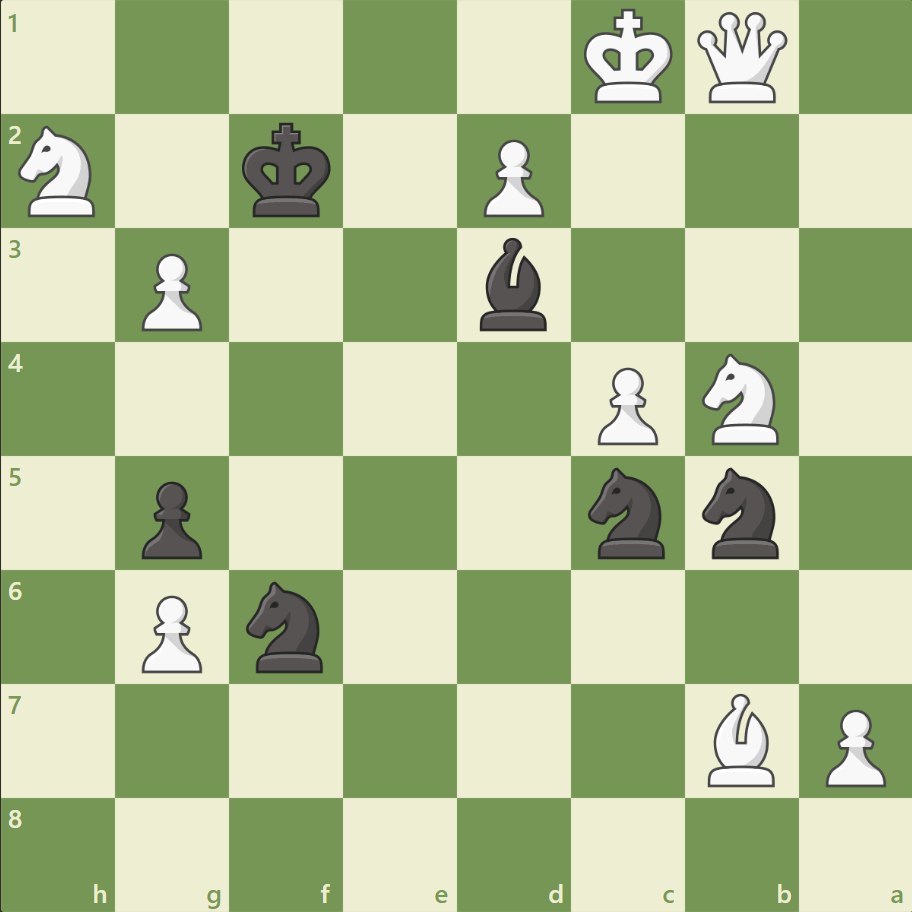B: (698, 687, 782, 790)
K: (579, 4, 679, 112)
N: (692, 348, 789, 450), (11, 121, 108, 223)
P: (133, 586, 208, 677), (133, 246, 208, 337), (474, 132, 549, 223), (815, 700, 889, 791), (588, 359, 662, 450)
Q: (691, 9, 790, 108)
b: (471, 233, 555, 336)
k: (238, 117, 338, 225)
n: (692, 461, 789, 564), (579, 461, 676, 564), (238, 575, 335, 677)
p: (133, 473, 208, 564)
